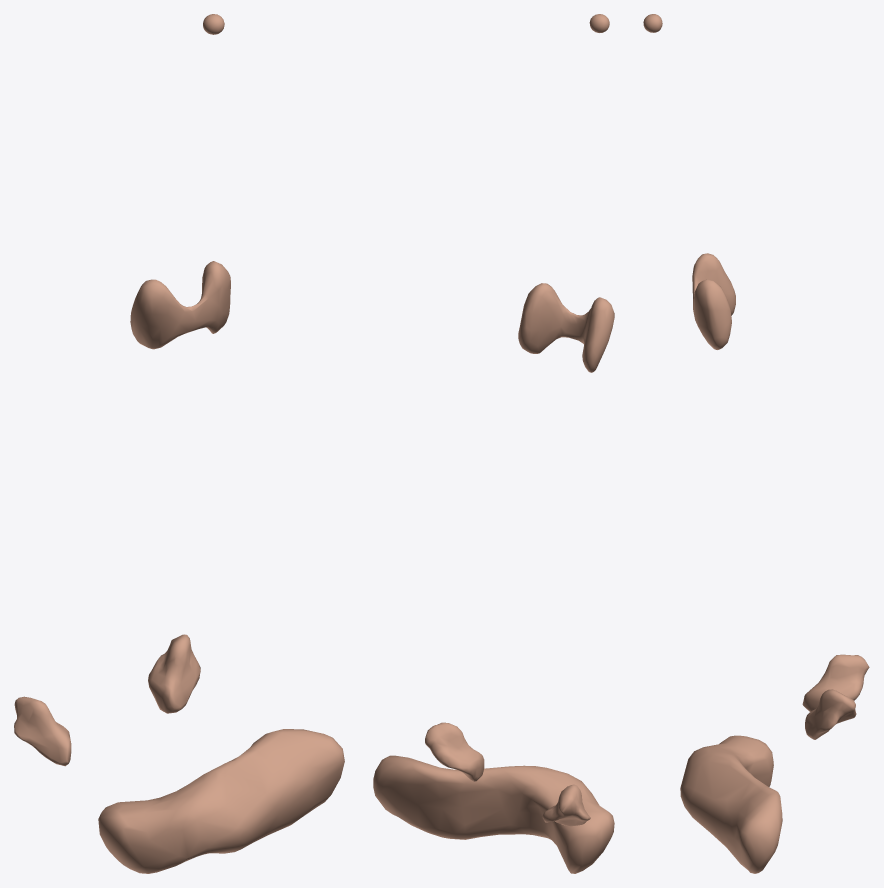
The model's file is pediatric_child_10y_female.endocrine.LOD1.glb.
3 views of the same model, side by side, from view 1: azimuth 30°, elevation 25°; view 2: azimuth 150°, elevation 25°; view 3: azimuth 270°, elevation 25° (orthographic). The views are drawn at different scales.
Parts seen in each view (by area): view 1: PEDIATRIC.CHILD_10Y.FEMALE.ENDOCRINE.PANCREAS, PEDIATRIC.CHILD_10Y.FEMALE.ENDOCRINE.THYROID, PEDIATRIC.CHILD_10Y.FEMALE.ENDOCRINE.ADRENAL.L, PEDIATRIC.CHILD_10Y.FEMALE.ENDOCRINE.ADRENAL.R; view 2: PEDIATRIC.CHILD_10Y.FEMALE.ENDOCRINE.PANCREAS, PEDIATRIC.CHILD_10Y.FEMALE.ENDOCRINE.THYROID, PEDIATRIC.CHILD_10Y.FEMALE.ENDOCRINE.ADRENAL.L, PEDIATRIC.CHILD_10Y.FEMALE.ENDOCRINE.ADRENAL.R; view 3: PEDIATRIC.CHILD_10Y.FEMALE.ENDOCRINE.PANCREAS, PEDIATRIC.CHILD_10Y.FEMALE.ENDOCRINE.THYROID, PEDIATRIC.CHILD_10Y.FEMALE.ENDOCRINE.ADRENAL.R, PEDIATRIC.CHILD_10Y.FEMALE.ENDOCRINE.ADRENAL.L.
Boxes of the visible parts, x1=… form: PEDIATRIC.CHILD_10Y.FEMALE.ENDOCRINE.PANCREAS: x1=98, y1=729, x2=344, y2=873; PEDIATRIC.CHILD_10Y.FEMALE.ENDOCRINE.THYROID: x1=130, y1=261, x2=230, y2=349; PEDIATRIC.CHILD_10Y.FEMALE.ENDOCRINE.ADRENAL.L: x1=148, y1=634, x2=200, y2=713; PEDIATRIC.CHILD_10Y.FEMALE.ENDOCRINE.ADRENAL.R: x1=14, y1=696, x2=71, y2=766; PEDIATRIC.CHILD_10Y.FEMALE.ENDOCRINE.PANCREAS: x1=373, y1=755, x2=614, y2=873; PEDIATRIC.CHILD_10Y.FEMALE.ENDOCRINE.THYROID: x1=518, y1=283, x2=614, y2=372; PEDIATRIC.CHILD_10Y.FEMALE.ENDOCRINE.ADRENAL.L: x1=425, y1=722, x2=484, y2=781; PEDIATRIC.CHILD_10Y.FEMALE.ENDOCRINE.ADRENAL.R: x1=542, y1=784, x2=590, y2=826; PEDIATRIC.CHILD_10Y.FEMALE.ENDOCRINE.PANCREAS: x1=680, y1=735, x2=782, y2=873; PEDIATRIC.CHILD_10Y.FEMALE.ENDOCRINE.THYROID: x1=692, y1=253, x2=735, y2=349; PEDIATRIC.CHILD_10Y.FEMALE.ENDOCRINE.ADRENAL.R: x1=802, y1=654, x2=869, y2=711; PEDIATRIC.CHILD_10Y.FEMALE.ENDOCRINE.ADRENAL.L: x1=805, y1=689, x2=856, y2=739.
Bounding box in the file's own units: 0.1333 × 0.4041 × 0.1034.
